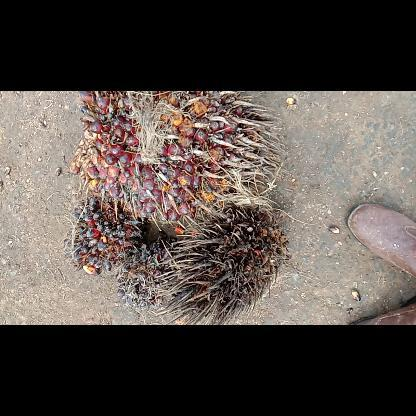Janjang kosong: (167, 191, 286, 323)
TBS abnormal: (63, 193, 144, 276), (114, 229, 184, 315)
TBS masak: (67, 91, 281, 223)
